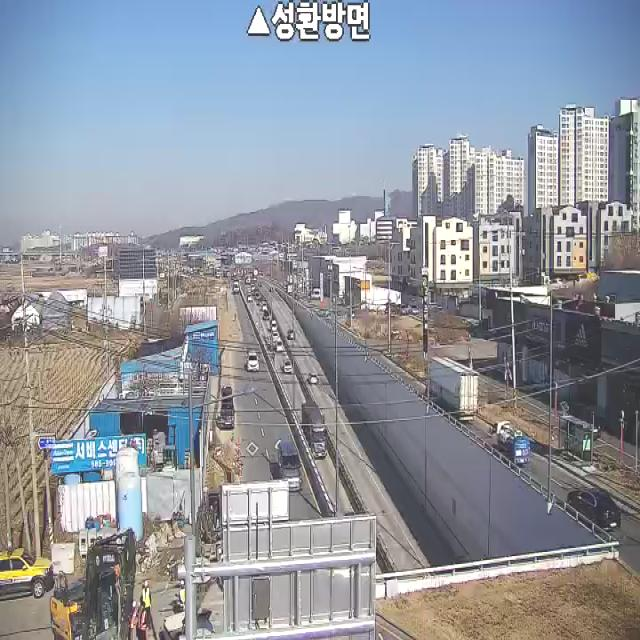Car: (0, 548, 49, 600), (567, 488, 621, 531), (278, 441, 302, 492), (571, 414, 601, 441), (247, 350, 259, 372), (280, 355, 292, 374), (309, 373, 319, 385), (287, 329, 295, 339), (263, 309, 270, 320), (248, 293, 252, 302)
Truck: (44, 510, 136, 640), (180, 470, 235, 602), (426, 356, 478, 421), (488, 421, 530, 465), (302, 401, 328, 459), (222, 385, 235, 429), (276, 338, 283, 352), (233, 279, 239, 295), (272, 332, 279, 342), (272, 320, 277, 330)
